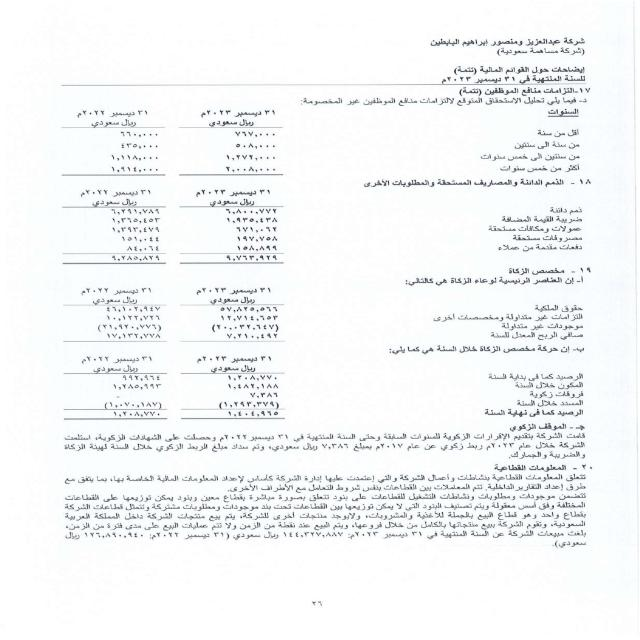notes: (444, 66, 589, 74)
table: (43, 187, 284, 275), (37, 108, 301, 183), (44, 284, 286, 351), (62, 353, 279, 426)
